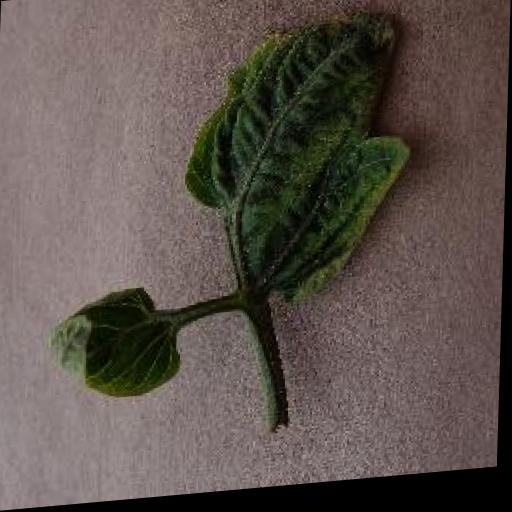Yellow Leaf Curl Virus: (181, 9, 423, 317), (49, 280, 191, 405)
